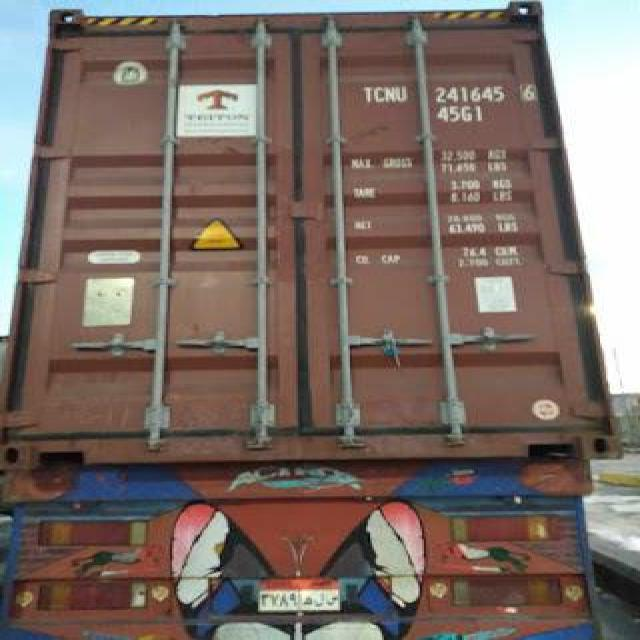ISO: (438, 106, 486, 124)
container_number: (360, 80, 532, 105)
